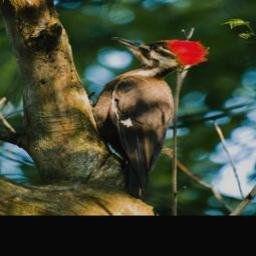Woodpecker: (79, 34, 209, 200)
